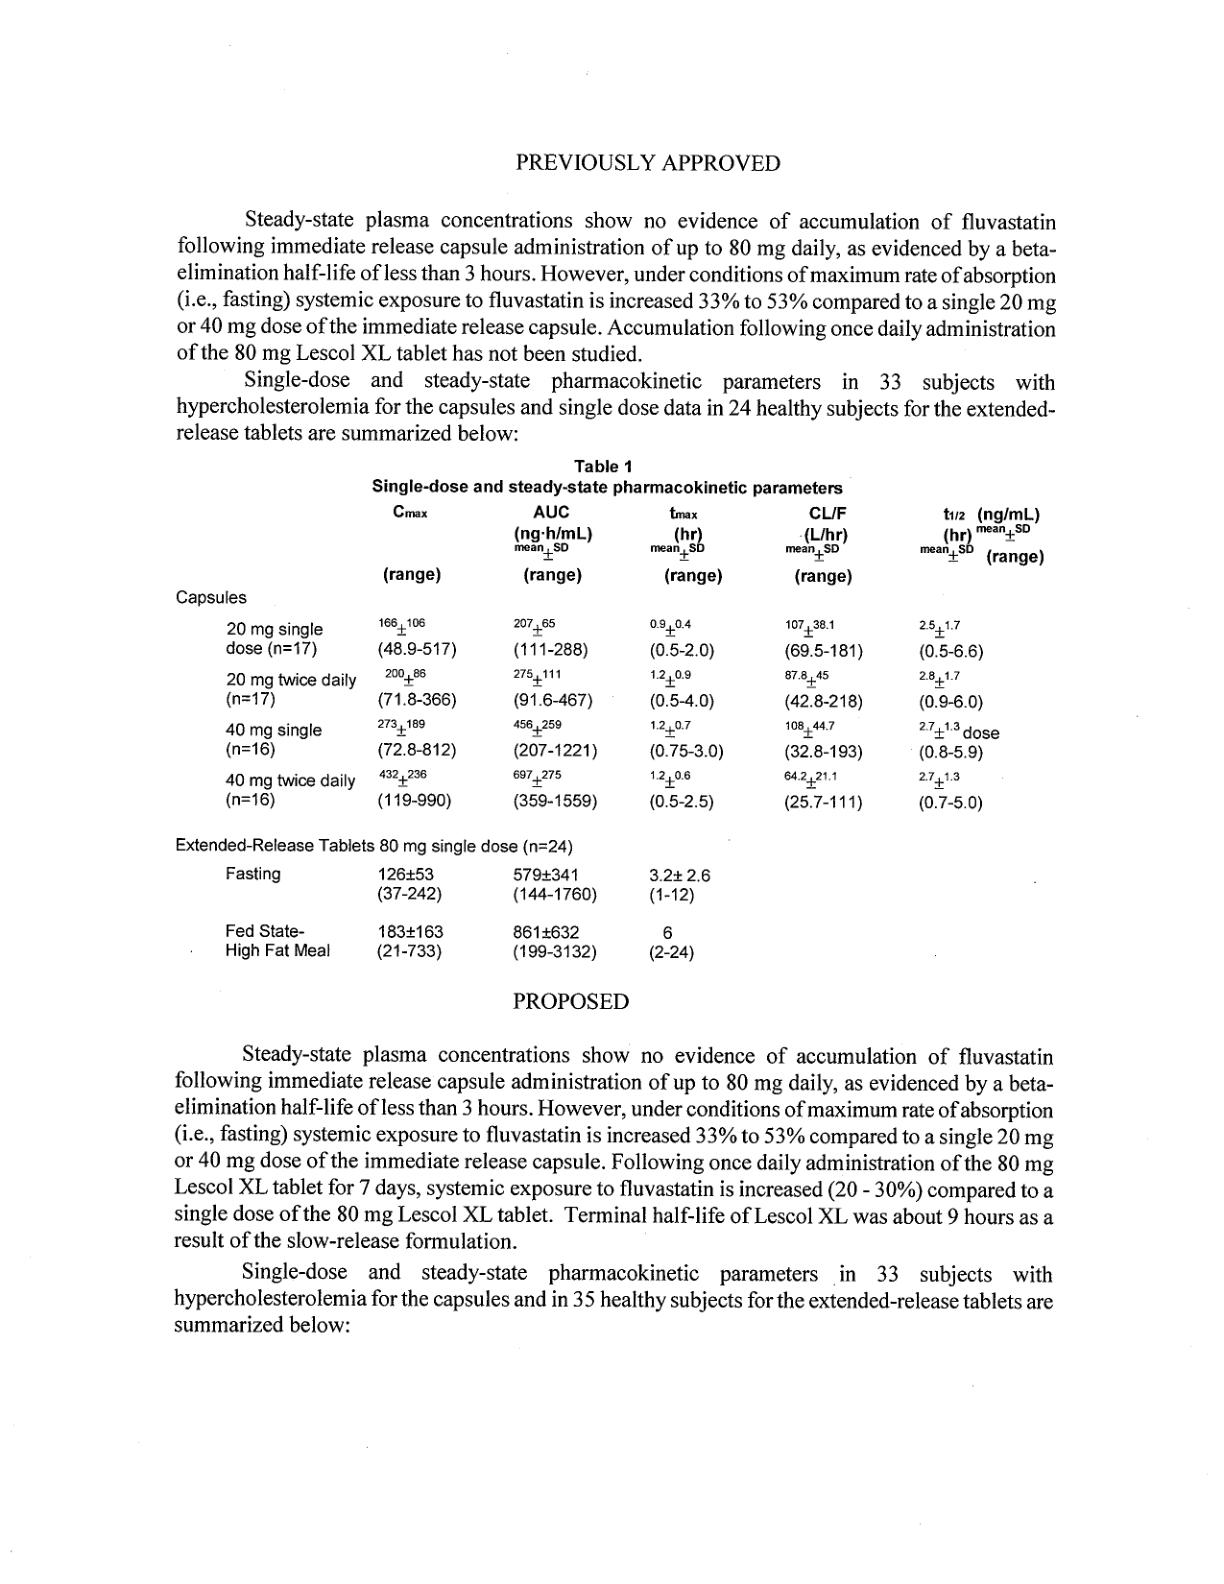nolines: (175, 500, 1047, 960)
